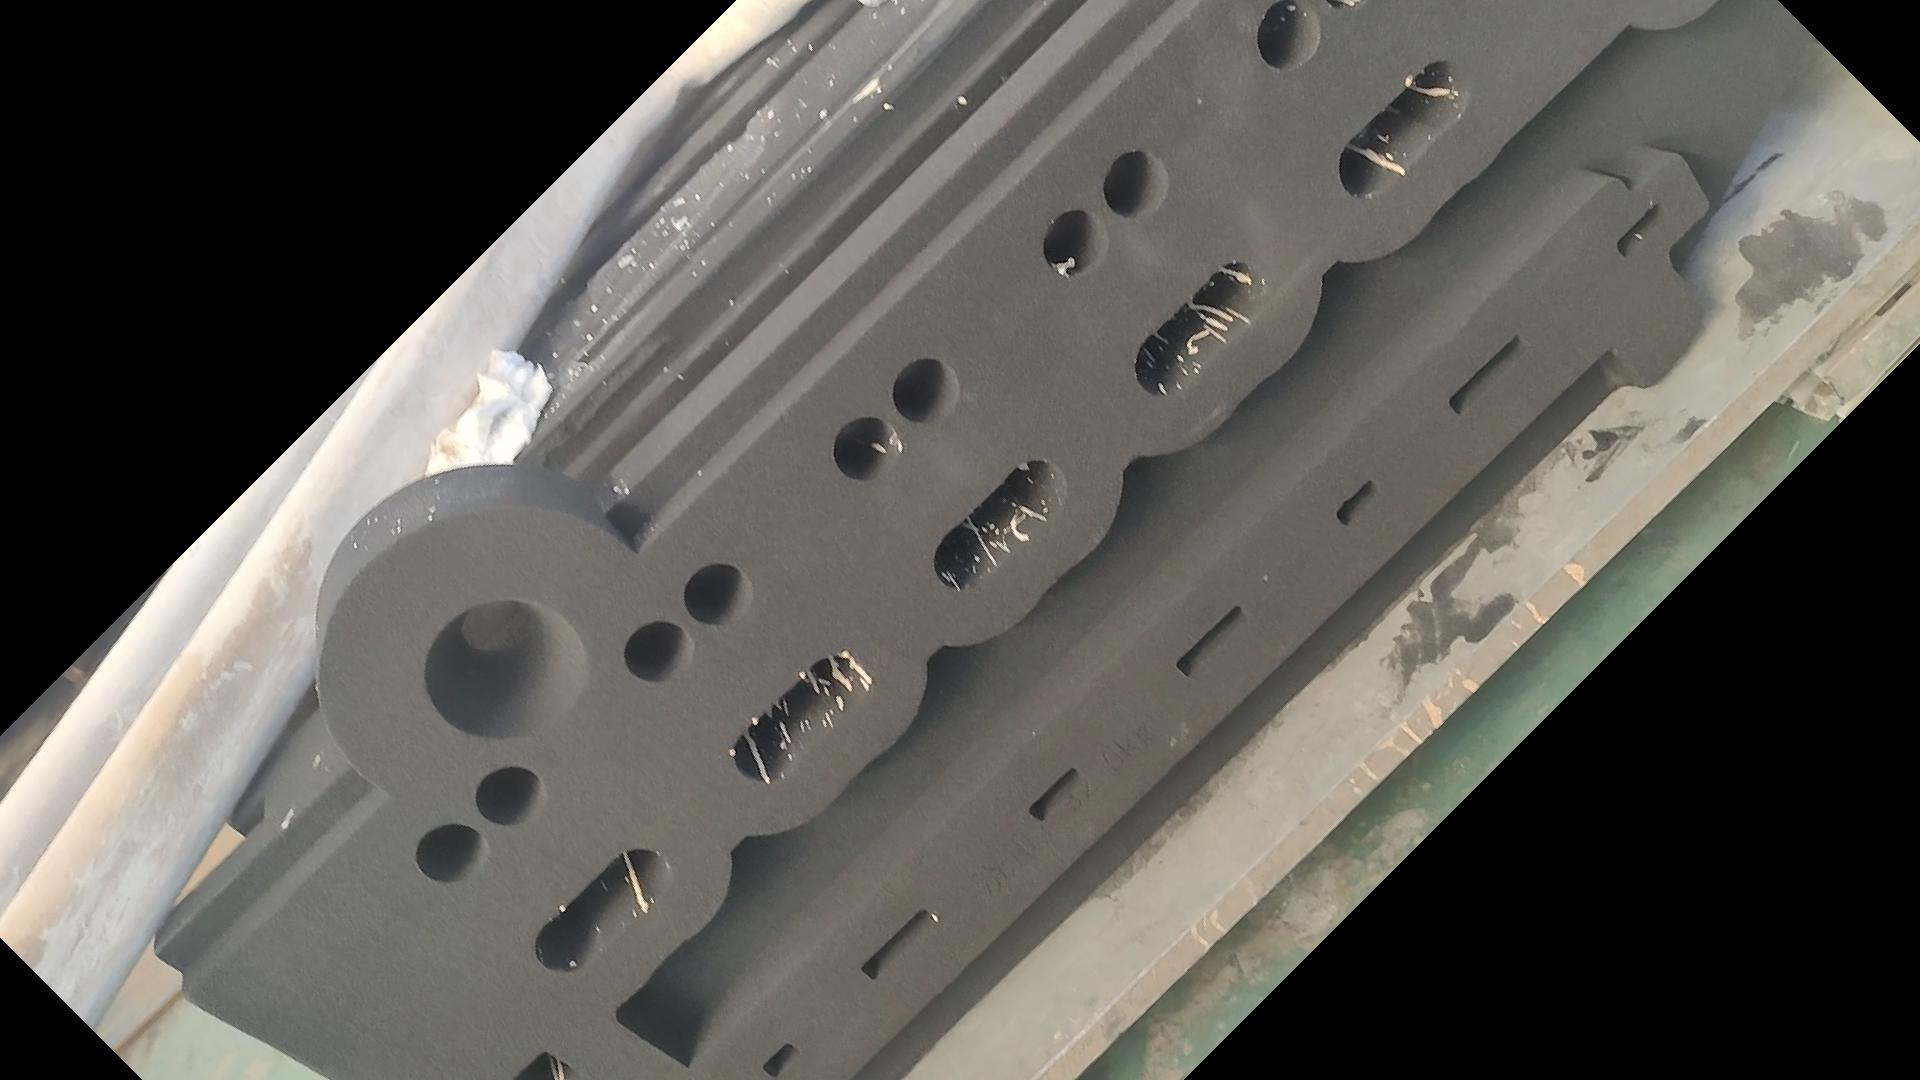pouring hole: (425, 601, 589, 737)
